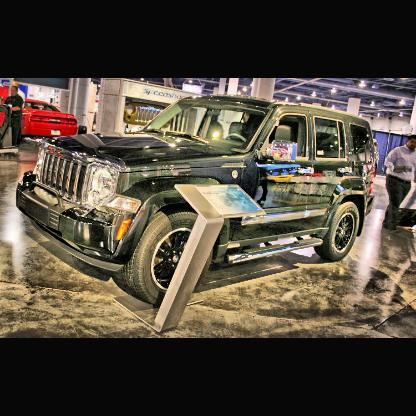Jeep Liberty SUV 2012: (16, 95, 379, 306)
